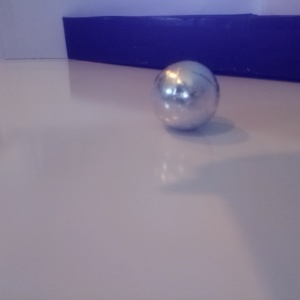zone: (98, 14, 300, 59)
